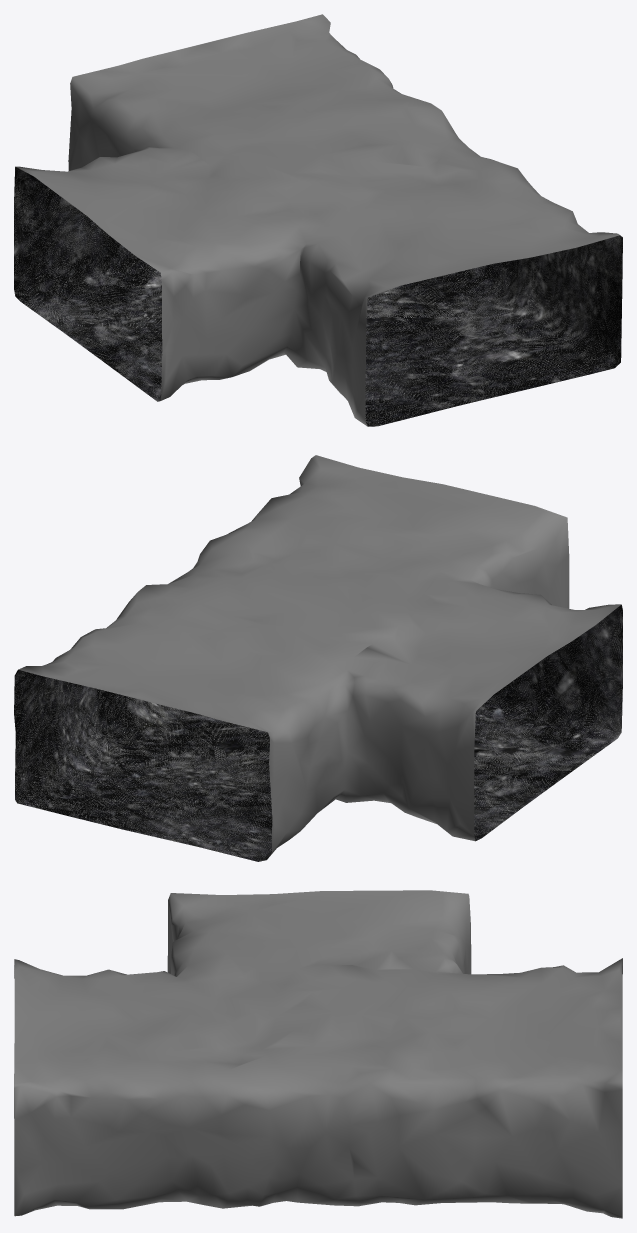
3 views of the same model, one above another, from view 1: azimuth 30°, elevation 25°; view 2: azimuth 150°, elevation 25°; view 3: azimuth 270°, elevation 25° (orthographic). The views are drawn at different scales.
Visible parts, largest first — view 1: tunnel3; view 2: tunnel3; view 3: tunnel3.
Boxes of the visible parts, x1,y1,x2,y2 form: tunnel3: (14,14,622,426); tunnel3: (14,455,622,861); tunnel3: (14,890,622,1218).
Bounding box in the file's own units: 293 × 390 × 98.21.
